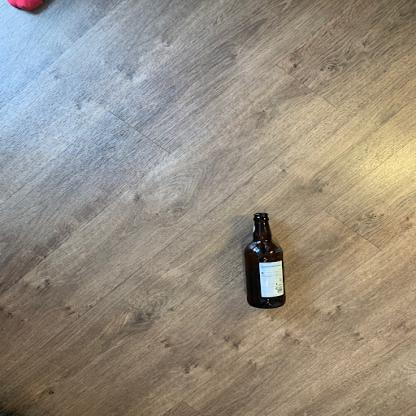trash: (243, 212, 288, 310)
